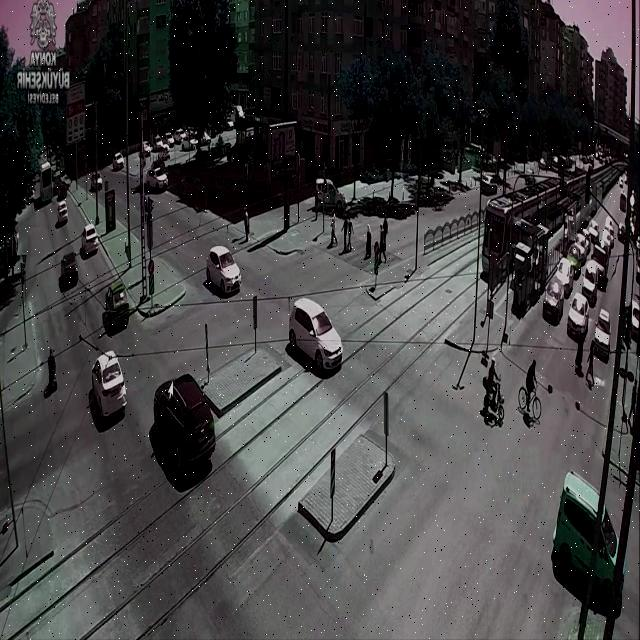Car: (552, 472, 627, 612), (149, 371, 219, 478), (290, 298, 344, 371), (91, 351, 129, 419), (205, 245, 241, 295), (104, 282, 131, 332), (315, 178, 347, 211), (567, 293, 589, 339), (542, 280, 564, 324), (553, 256, 576, 298), (591, 312, 610, 362), (582, 260, 604, 302), (623, 298, 640, 344), (568, 237, 589, 269), (146, 163, 169, 192), (60, 252, 78, 289), (81, 224, 99, 256), (591, 242, 609, 274), (546, 156, 573, 173), (600, 228, 614, 256), (480, 174, 498, 195), (586, 219, 600, 242), (56, 199, 68, 225), (89, 172, 103, 191), (112, 152, 125, 170), (157, 146, 170, 162), (181, 137, 194, 151), (142, 141, 153, 156), (539, 157, 550, 170), (164, 132, 174, 146), (551, 156, 560, 169), (174, 130, 182, 144)
Cycle: (519, 358, 546, 424), (480, 358, 505, 423)
